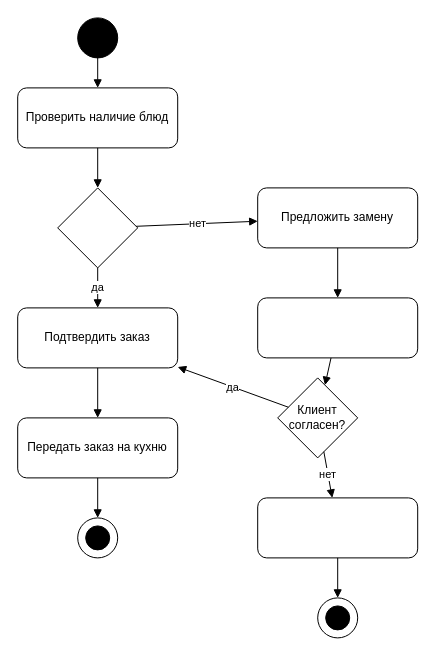
Some shapes in this 435 by 655 pixel diagram are drawn without their labels. Here are the shapes that lost their labels. From the top down, the box of each, then its label:
(57, 187, 138, 268): Блюдо доступно?
(257, 297, 418, 358): Уведомить клиента о замене
(257, 497, 418, 558): Отменить заказ
